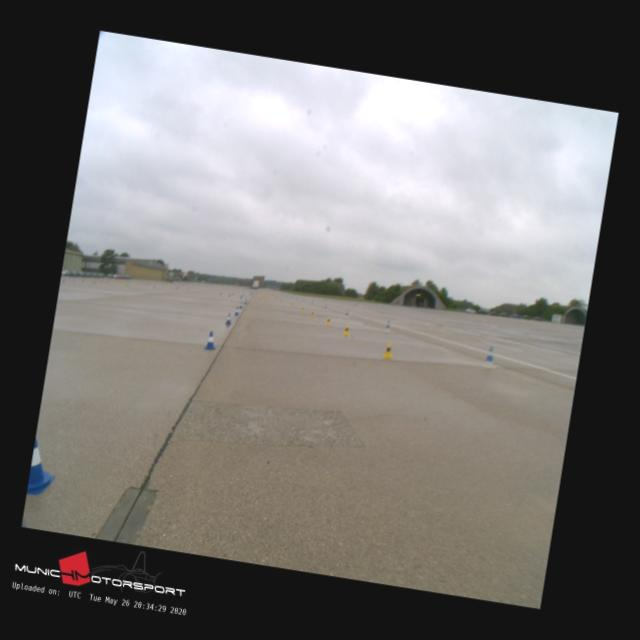blue_cone: (27, 437, 62, 498), (204, 331, 218, 350), (225, 313, 232, 324), (234, 307, 240, 316)
yellow_cone: (384, 342, 394, 358), (342, 326, 350, 336), (326, 318, 331, 325), (310, 310, 314, 317)
